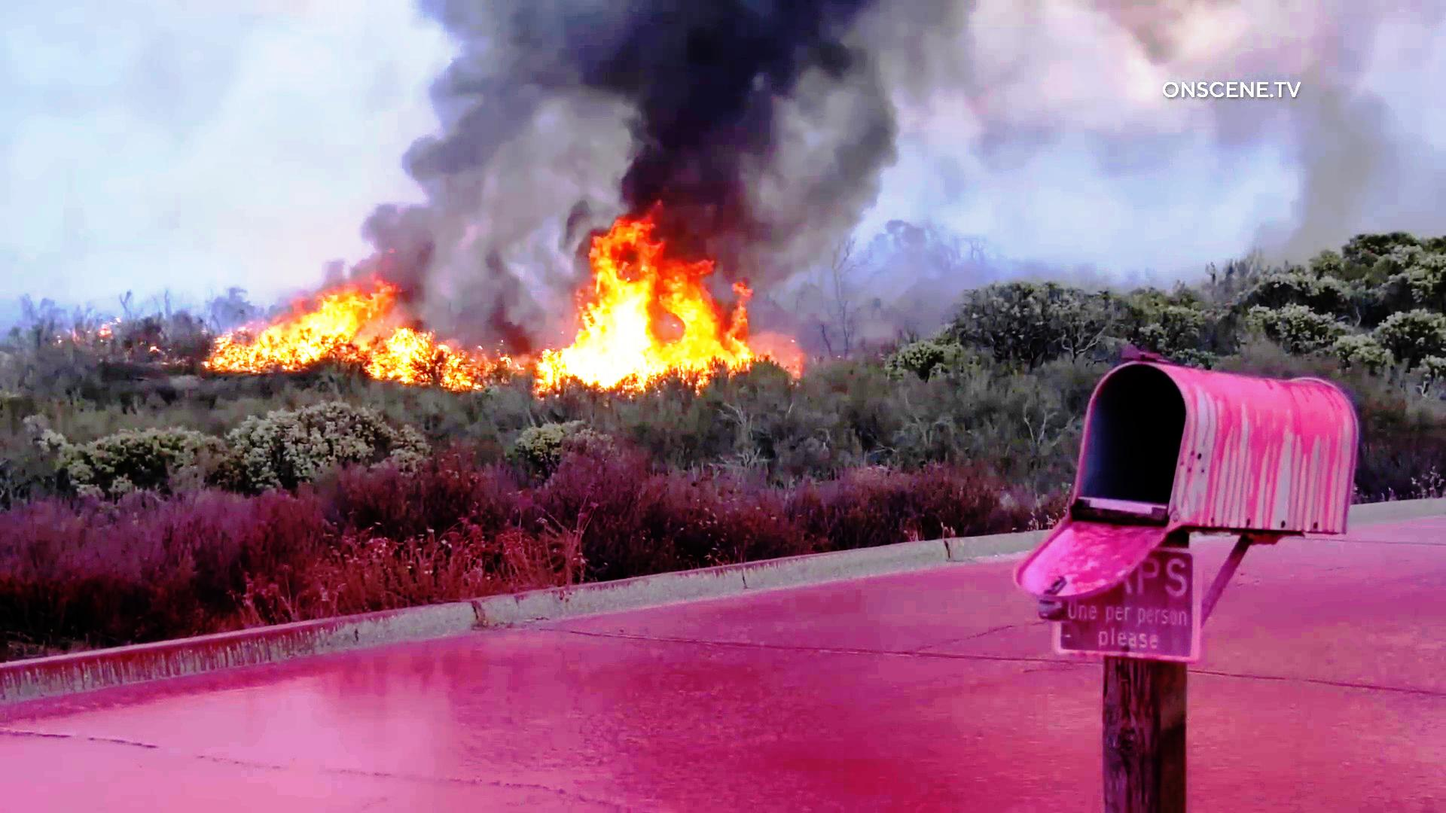fire: (558, 222, 787, 393), (210, 268, 469, 382)
smoke: (409, 8, 1022, 216)
